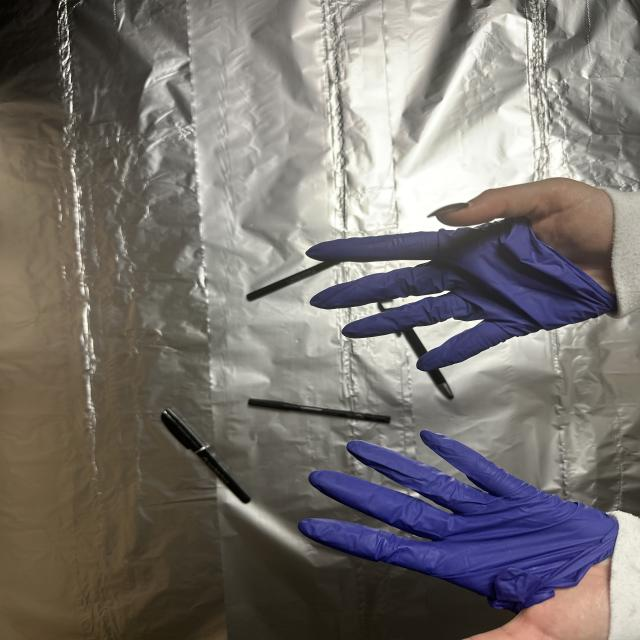glove_partial: (298, 427, 619, 640), (302, 175, 626, 373)
